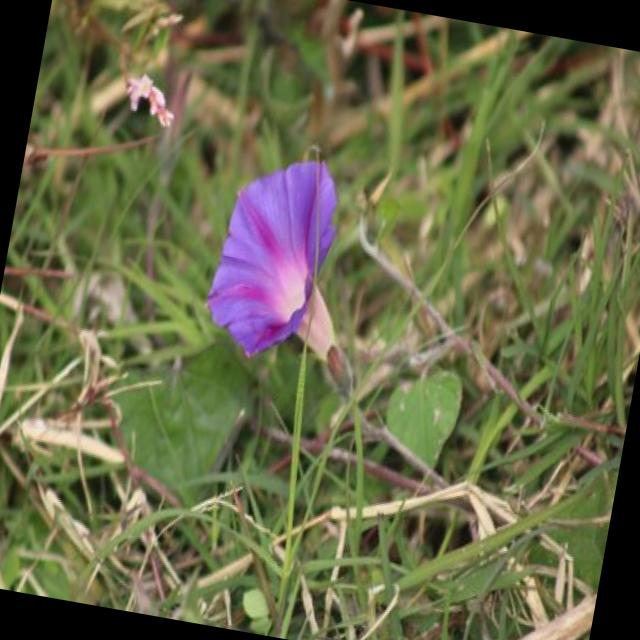ipomoea: (193, 136, 372, 380), (114, 64, 184, 135)
